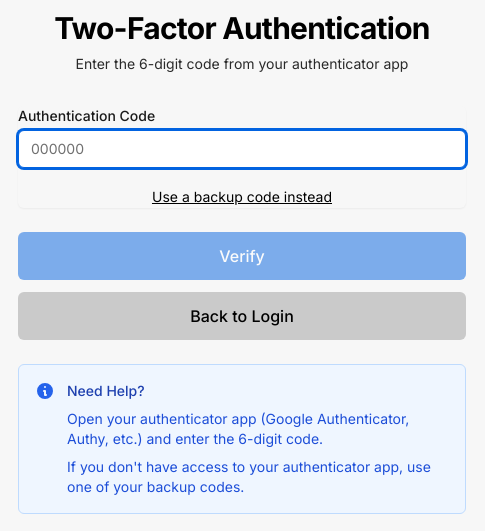
Test case: MFAVerificationPage › Backup Code Toggle › should switch to backup code input when toggle clicked
Click the button "Use a backup code instead" at (242, 197), box [152,187,332,207]
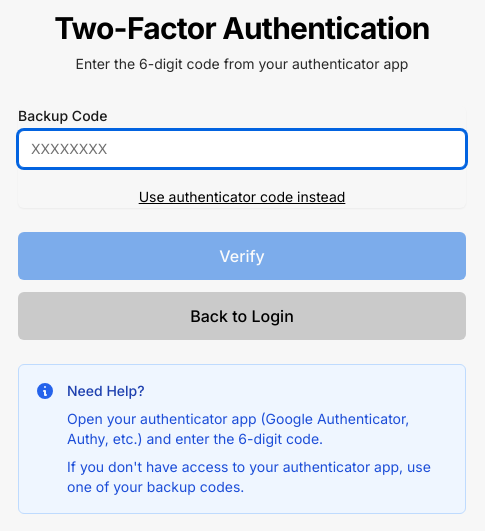
Expected: the field labelled "Backup Code" is shown, [18,130,466,168]
Expected: the label labelled "Authentication Code" is gone
